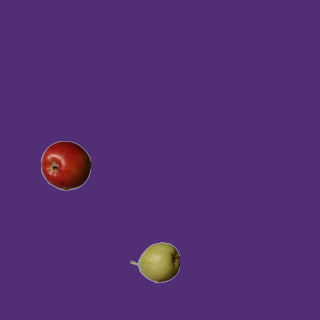Apple Braeburn: (40, 140, 90, 190)
Pear: (129, 237, 179, 287)
